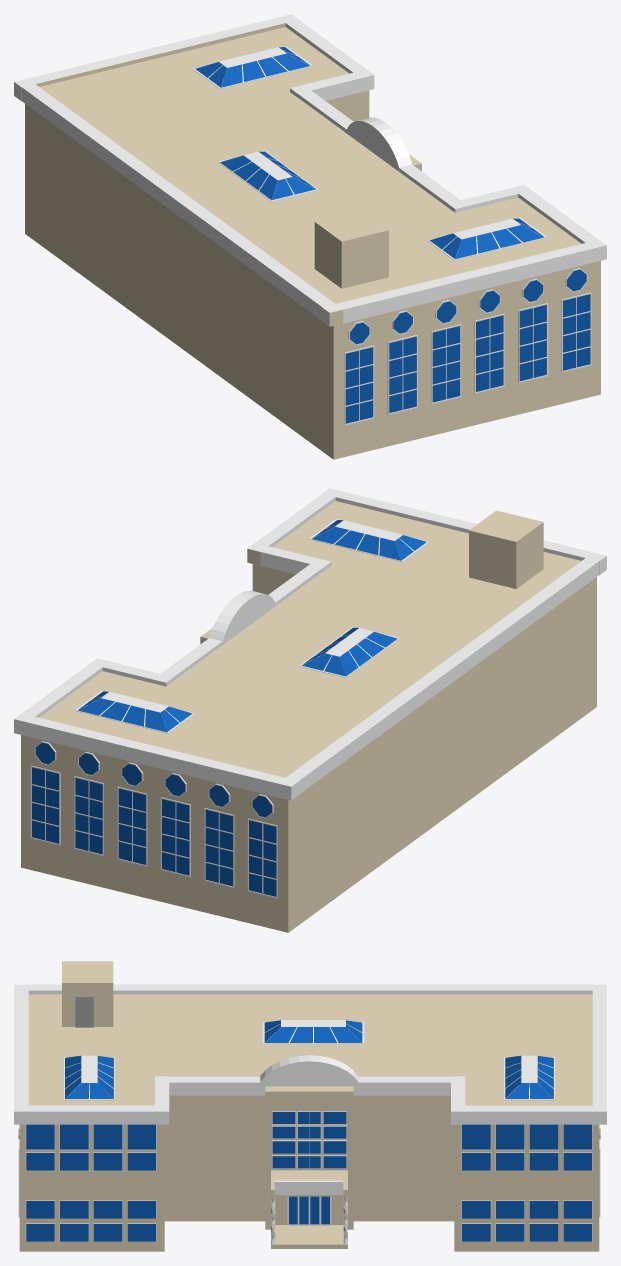
File: Schol.fbx
The picture shows the model from 3 angles, top to bottom: view 1: azimuth 30°, elevation 25°; view 2: azimuth 150°, elevation 25°; view 3: azimuth 270°, elevation 25°; orthographic projection. The views are drawn at different scales.
Parts seen in each view (by area): view 1: Куб.002; view 2: Куб.002; view 3: Куб.002.
Part boxes in pixels (x1,y1,x2,y2): Куб.002: (14,14,606,459); Куб.002: (14,488,606,932); Куб.002: (14,961,606,1251).
Bounding box in the file's own units: 2906 × 1942 × 5727.
